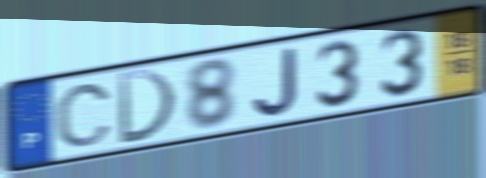3: (378, 26, 426, 99), (314, 37, 362, 110)
8: (184, 55, 240, 134)
C: (52, 81, 116, 150)
D: (114, 67, 179, 148)
J: (249, 44, 300, 119)
